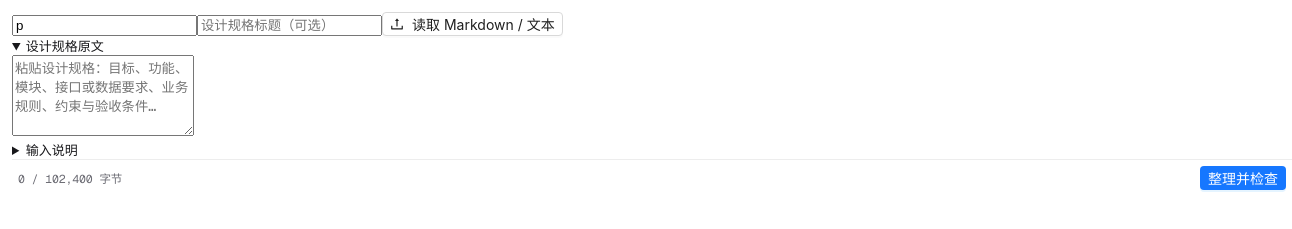
Scenario: DesignSpecInput import wait › shows elapsed wait copy, disables resubmit, and polls while importing
Step 1. Type "目标：学生查看空闲座位。" into the text box named "设计规格原文" → (103, 96), box [12, 55, 194, 136]
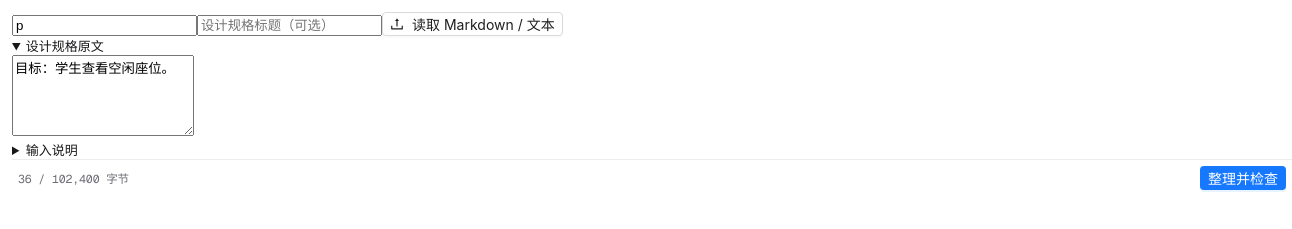
Step 2. Click the button "整理并检查" → (1243, 178), box [1200, 166, 1286, 190]
Wait 3000 ms
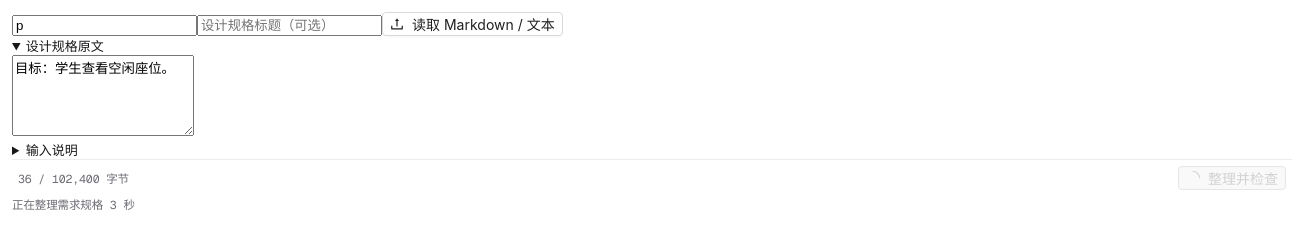
Expected: the button "整理并检查" is disabled, [1178, 166, 1286, 190]
Expected: the text with test id "design-import-wait" shows "正在整理", [12, 197, 135, 212]
Expected: the text with test id "design-import-wait" shows "3", [12, 197, 135, 212]
